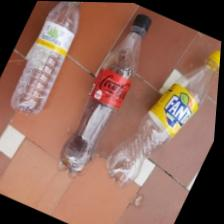glass: (39, 3, 169, 186), (109, 50, 223, 223), (0, 1, 79, 132)
